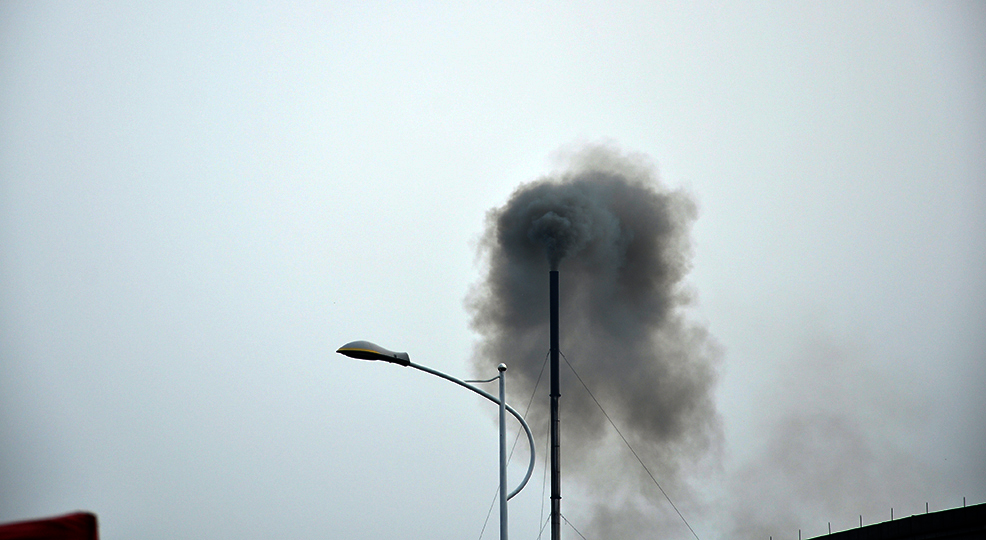dust: (457, 133, 716, 439)
